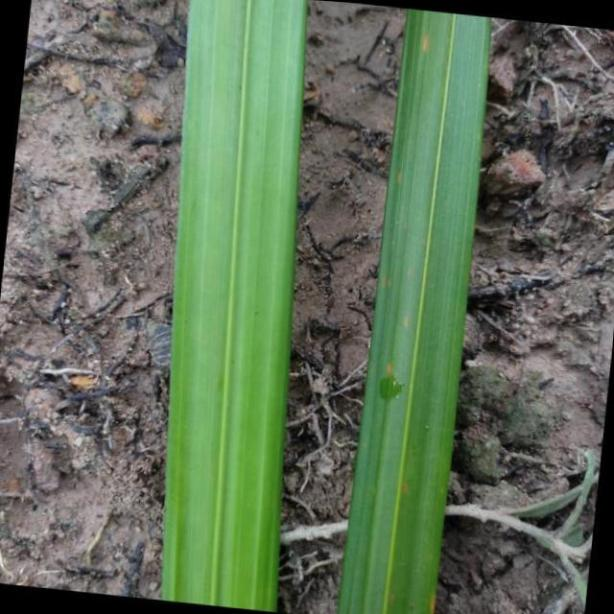nitrogen: (342, 0, 491, 614), (162, 0, 308, 614)
